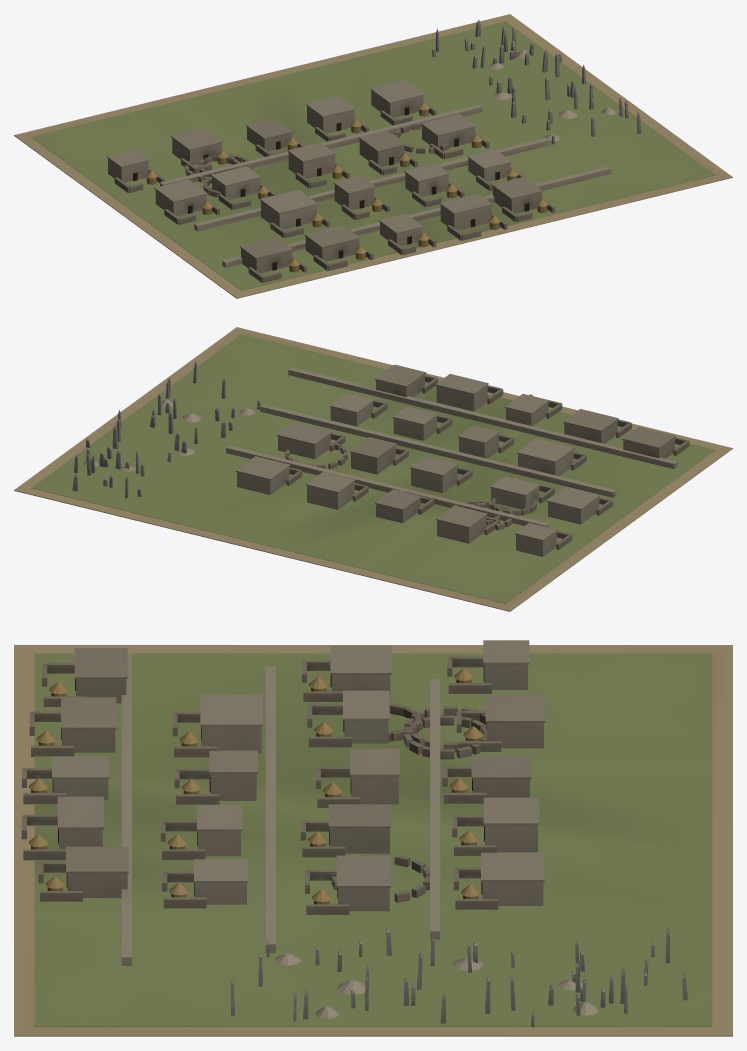
Rendered from beta-giyorgis.glb.
3 views of the same model, one above another, from view 1: azimuth 30°, elevation 25°; view 2: azimuth 150°, elevation 25°; view 3: azimuth 270°, elevation 25° (orthographic). The views are drawn at different scales.
Visible parts, largest first — view 1: p0_terraces, p1_houses, p2_stelae; view 2: p0_terraces, p1_houses, p2_stelae; view 3: p0_terraces, p1_houses, p2_stelae.
Boxes of the visible parts, <box> form: p0_terraces: <box>14,14,732,298</box>; p1_houses: <box>107,80,555,282</box>; p2_stelae: <box>432,20,641,144</box>; p0_terraces: <box>14,327,732,611</box>; p1_houses: <box>235,364,689,556</box>; p2_stelae: <box>72,361,260,498</box>; p0_terraces: <box>14,645,732,1036</box>; p1_houses: <box>21,640,545,914</box>; p2_stelae: <box>231,925,687,1027</box>.
Bounding box in the file's own units: 90 × 4.19 × 70.
